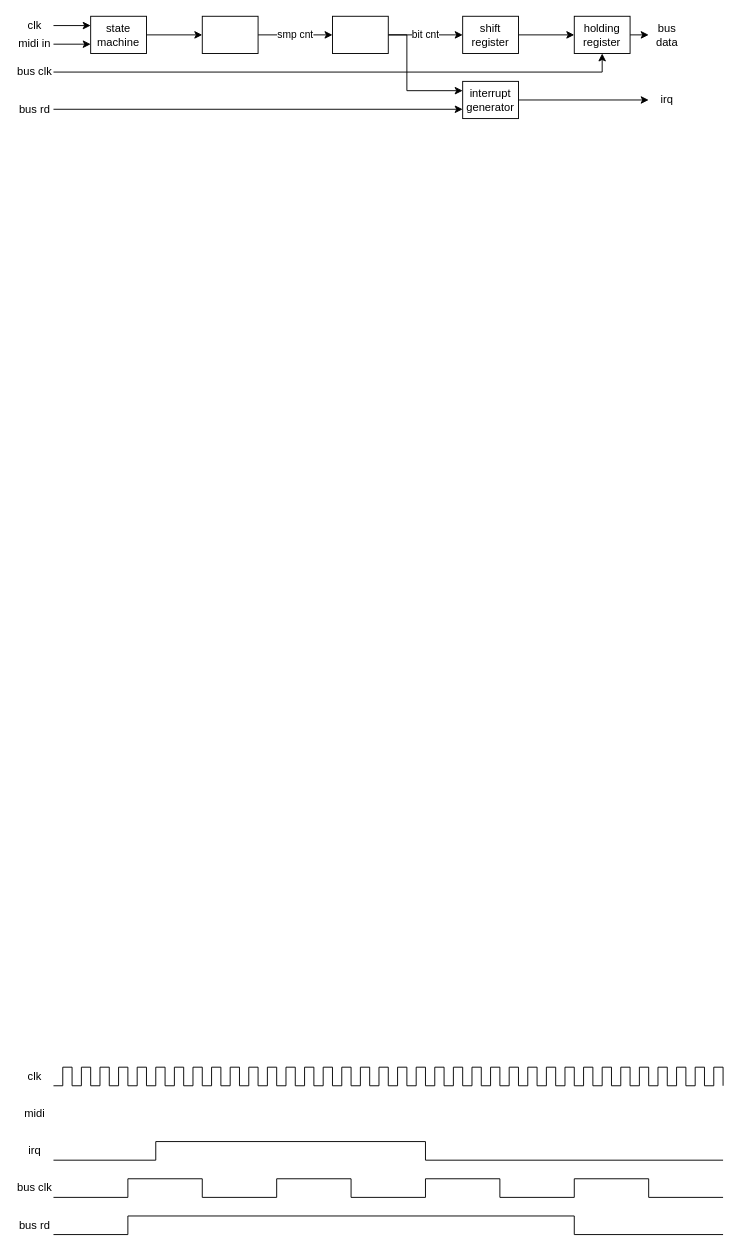
This 740x1252 diagram has some shape labels left out. Each missing label, with the centre of its shape:
"counter" goes at (229,34).
"sampler" goes at (360,34).
